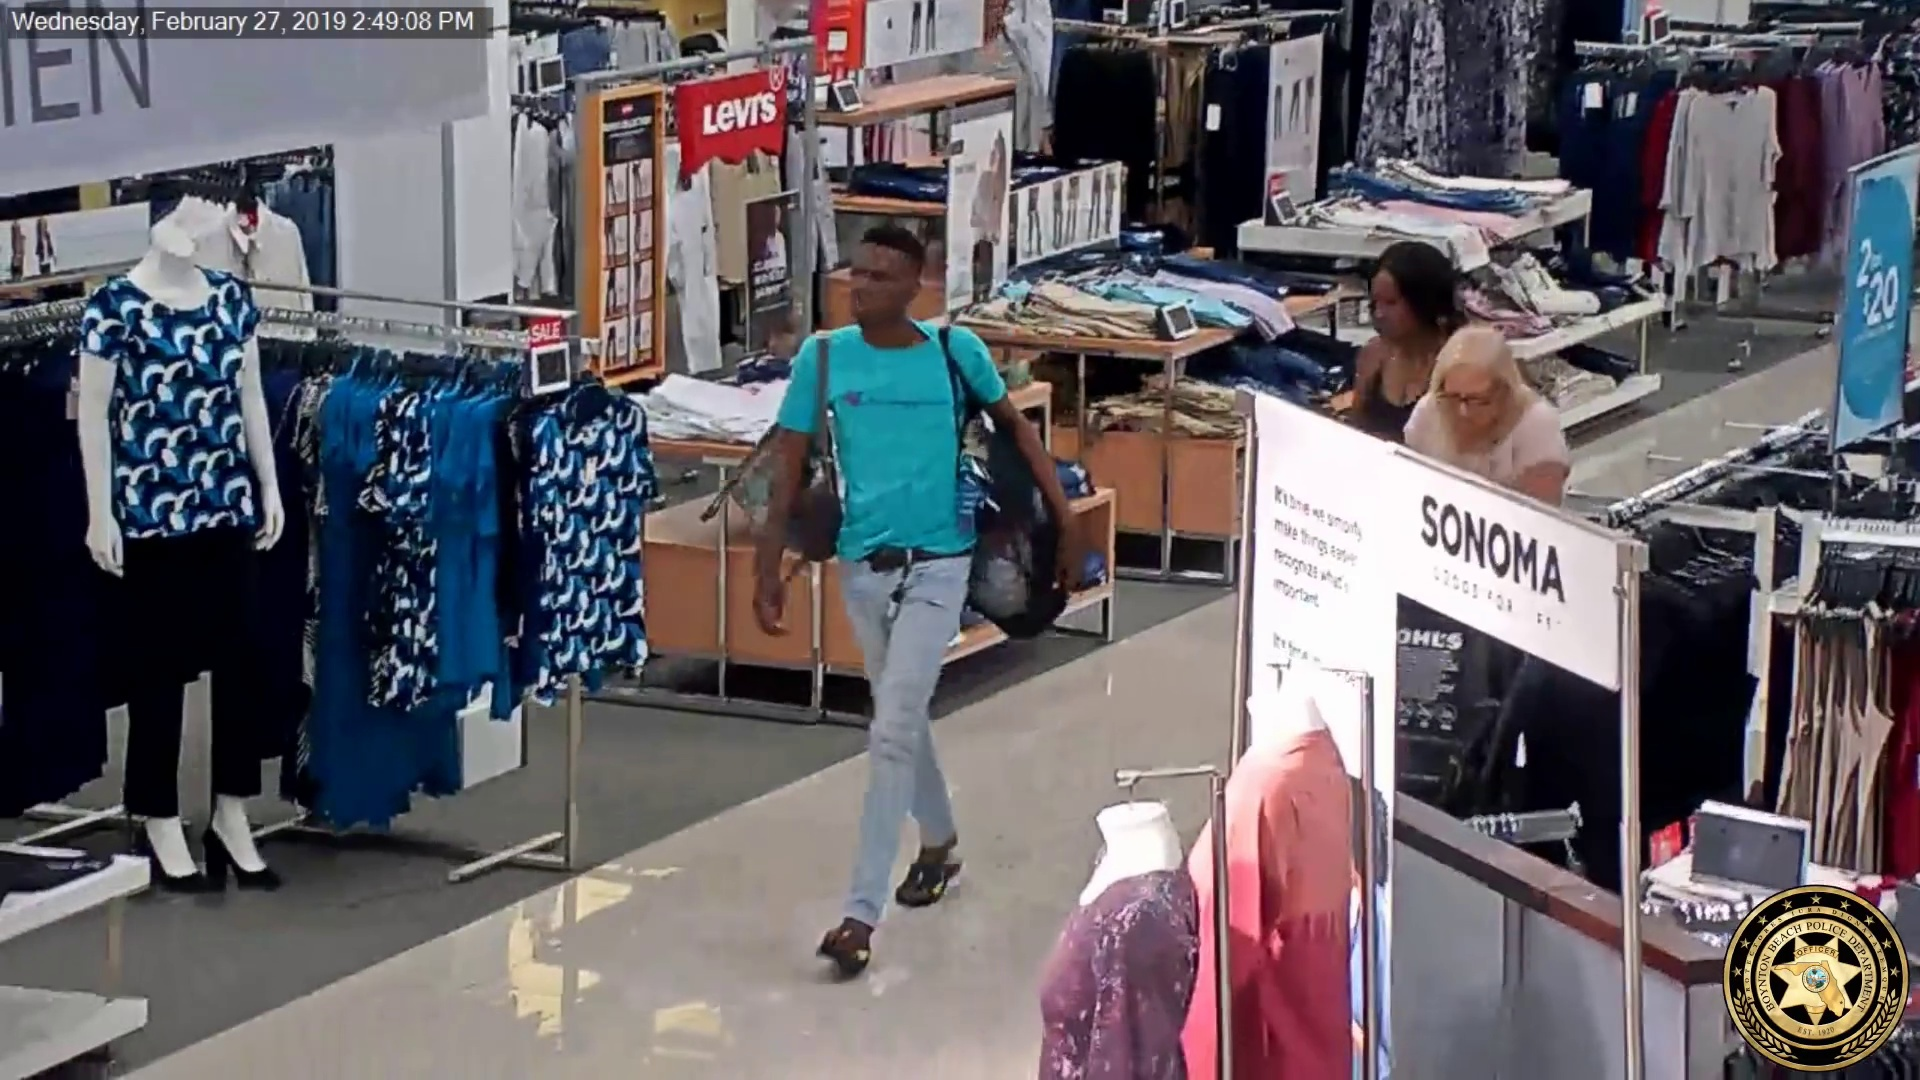face: (842, 238, 914, 329), (1439, 364, 1502, 439), (1361, 270, 1420, 345)
